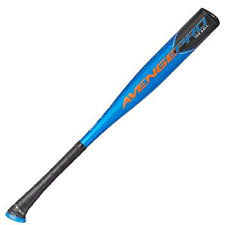baseball bat: (5, 7, 220, 223)
